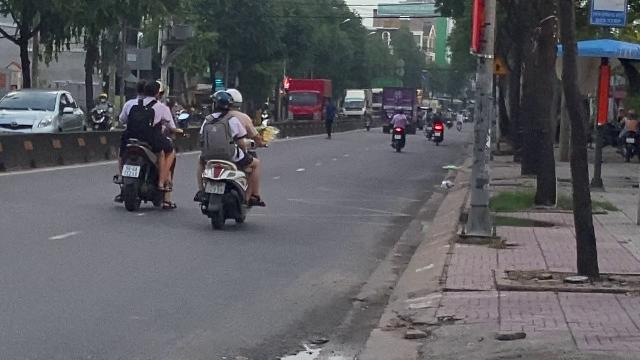helmet: (210, 90, 232, 112), (226, 88, 242, 106)
licenseplate: (206, 182, 224, 194), (122, 165, 140, 177)
motorcyclist: (190, 88, 266, 228), (110, 76, 178, 212)
nohelmet: (142, 78, 160, 98)
